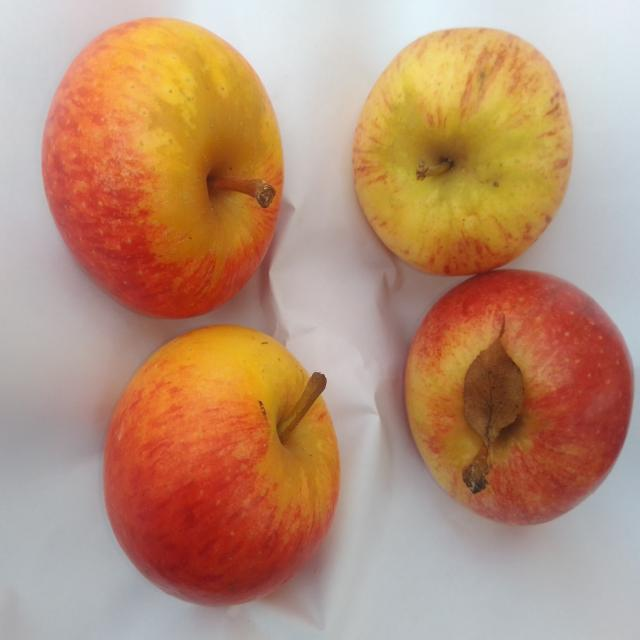Fresh Apple: (52, 25, 290, 318), (95, 328, 345, 600), (415, 267, 640, 518), (357, 38, 568, 267)
